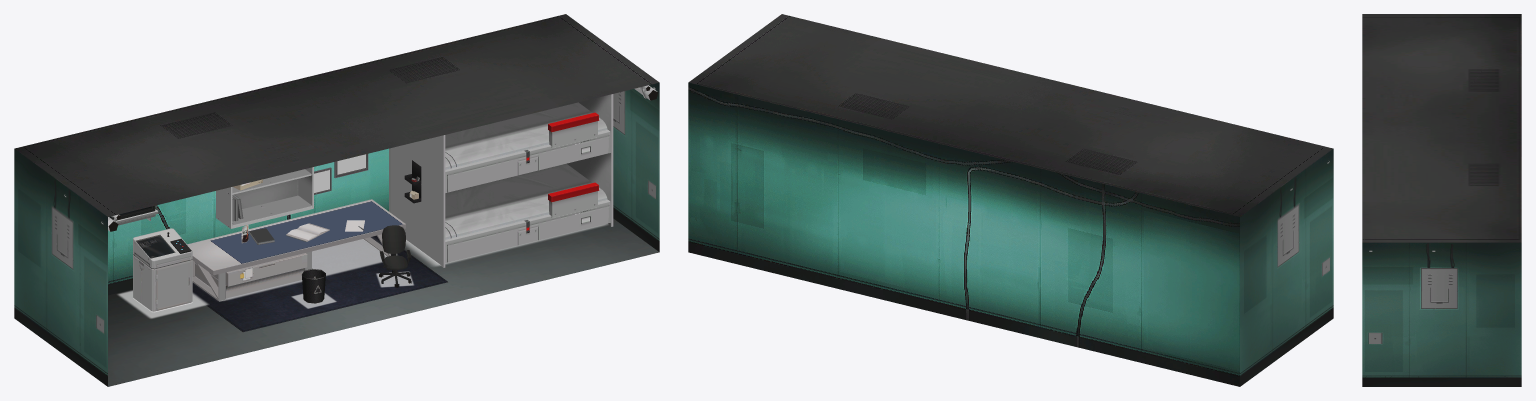
The model's file is cabin.glb.
3 renders of one model, left to right at view 1: azimuth 30°, elevation 25°; view 2: azimuth 150°, elevation 25°; view 3: azimuth 270°, elevation 25°, orthographic. The views are drawn at different scales.
Visible parts, largest first — view 1: ROOM_room, furni_medic_bed_01, ROOM_floor, furni_medic_desk_01, furni_medic_carpet_01, furni_medic_control_01, furni_medic_cabinet_01, shadow1, ROOM_LDoor, ROOM_RDoor, furni_medic_chair_01, furni_Cabin_note_01 (+3 smaller); view 2: ROOM_room, ROOM_LDoor; view 3: ROOM_room, ROOM_RDoor.
Boxes of the visible parts, <box> form: ROOM_room: <box>14,14,659,386</box>; furni_medic_bed_01: <box>389,94,613,267</box>; ROOM_floor: <box>108,218,659,386</box>; furni_medic_desk_01: <box>187,199,405,301</box>; furni_medic_carpet_01: <box>192,235,447,332</box>; furni_medic_control_01: <box>133,228,192,312</box>; furni_medic_cabinet_01: <box>216,167,313,228</box>; shadow1: <box>195,239,386,300</box>; ROOM_LDoor: <box>75,286,94,376</box>; ROOM_RDoor: <box>626,151,645,241</box>; furni_medic_chair_01: <box>379,225,411,287</box>; furni_Cabin_note_01: <box>314,154,368,194</box>; ROOM_room: <box>688,14,1333,386</box>; ROOM_LDoor: <box>1300,251,1319,341</box>; ROOM_room: <box>1362,14,1521,386</box>; ROOM_RDoor: <box>1385,321,1418,386</box>.
Bounding box in the file's own units: 7.5 × 2.2 × 2.2.
4 materials, 4 textured.
